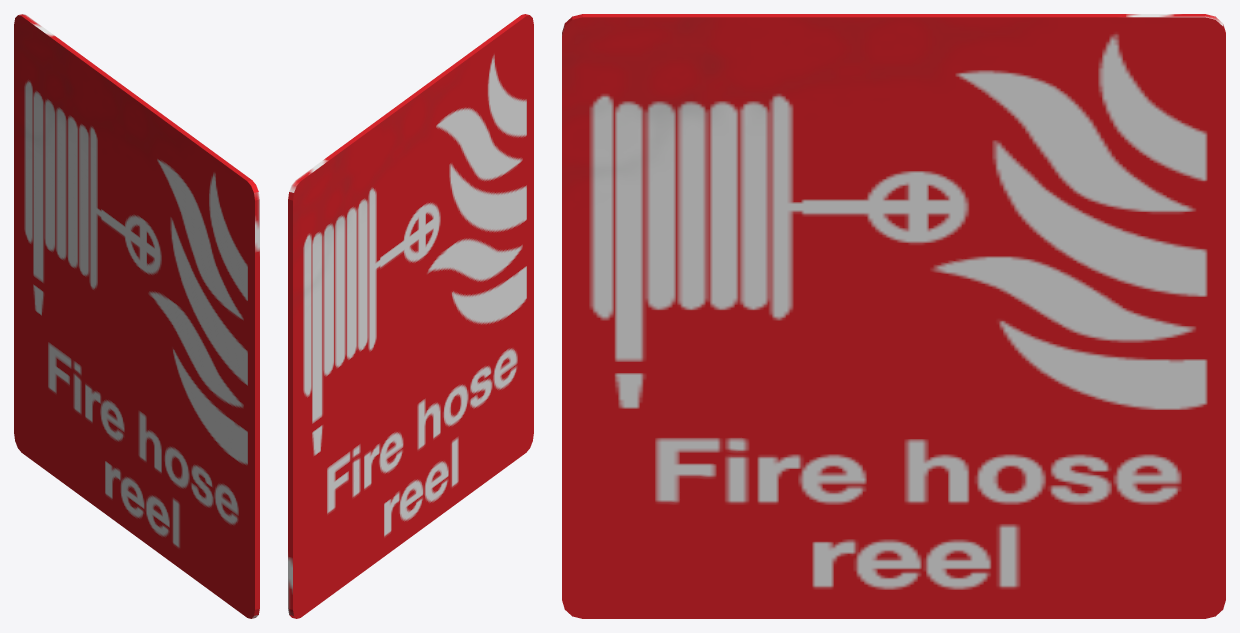
Rendered from DecalFireHose.fbx.
3 renders of one model, left to right at view 1: azimuth 30°, elevation 25°; view 2: azimuth 150°, elevation 25°; view 3: azimuth 270°, elevation 25°, orthographic. The views are drawn at different scales.
Parts seen in each view (by area): view 1: DecalFireHose; view 2: DecalFireHose; view 3: DecalFireHose.
Part boxes in pixels (x1,y1,x2,y2): DecalFireHose: (14,14,259,618); DecalFireHose: (288,14,533,618); DecalFireHose: (562,14,1225,618).
Bounding box in the file's own units: 5.01e-05 × 0.00429 × 0.00429.
